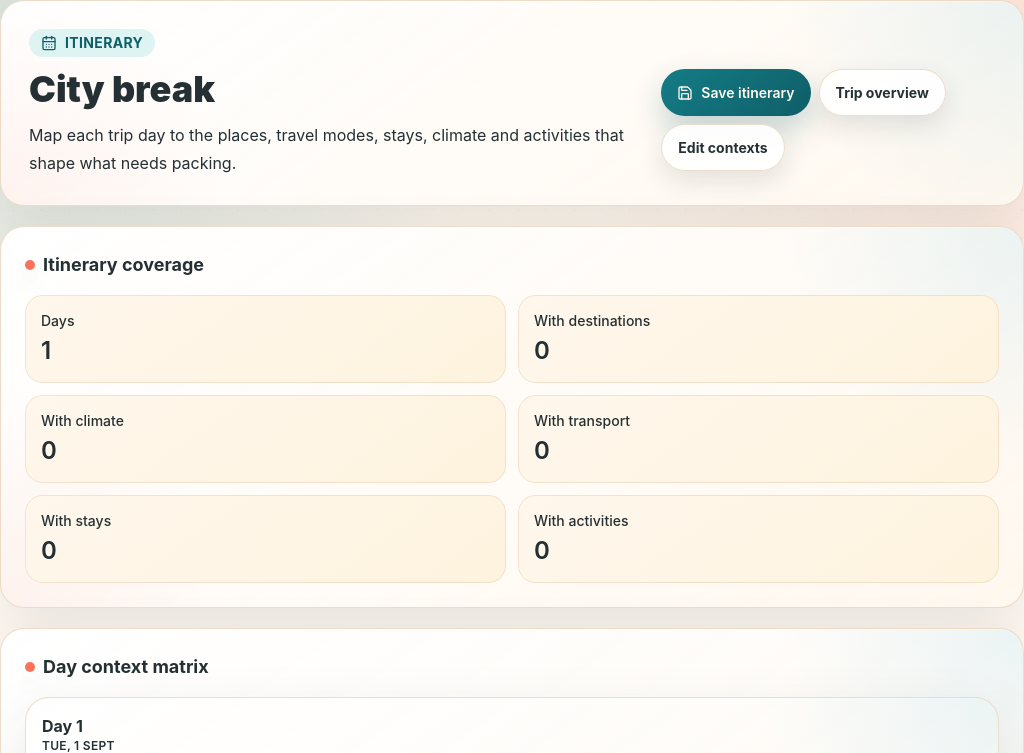
Scenario: ItineraryScreen context wiring › preserves existing itinerary saving
This screenshot has width=1024, height=753.
Click the button "Save itinerary": (736,92) [661, 69, 811, 116]
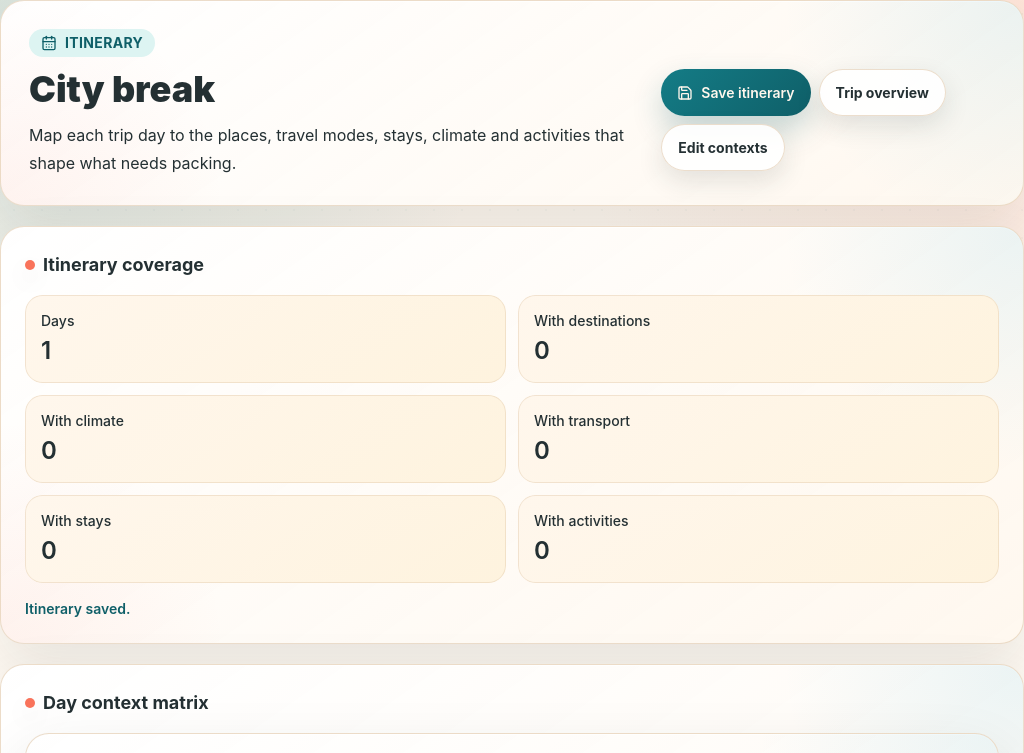
Check: the text "Itinerary saved." is shown, box [25, 600, 130, 617]
